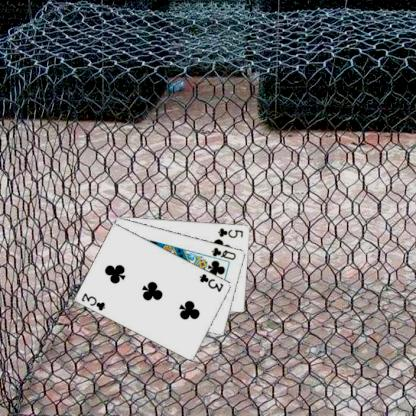3C: (197, 271, 225, 293), (78, 290, 106, 312)
5C: (216, 225, 245, 239)
QC: (209, 245, 237, 261)
